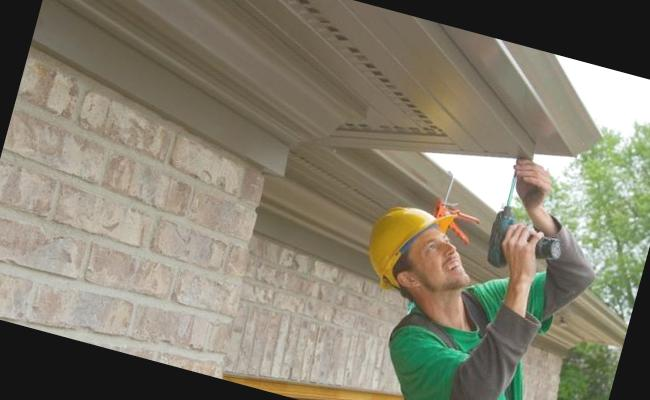helmet: (354, 190, 460, 311)
no_vest: (376, 278, 543, 400)
person: (317, 180, 613, 400)
